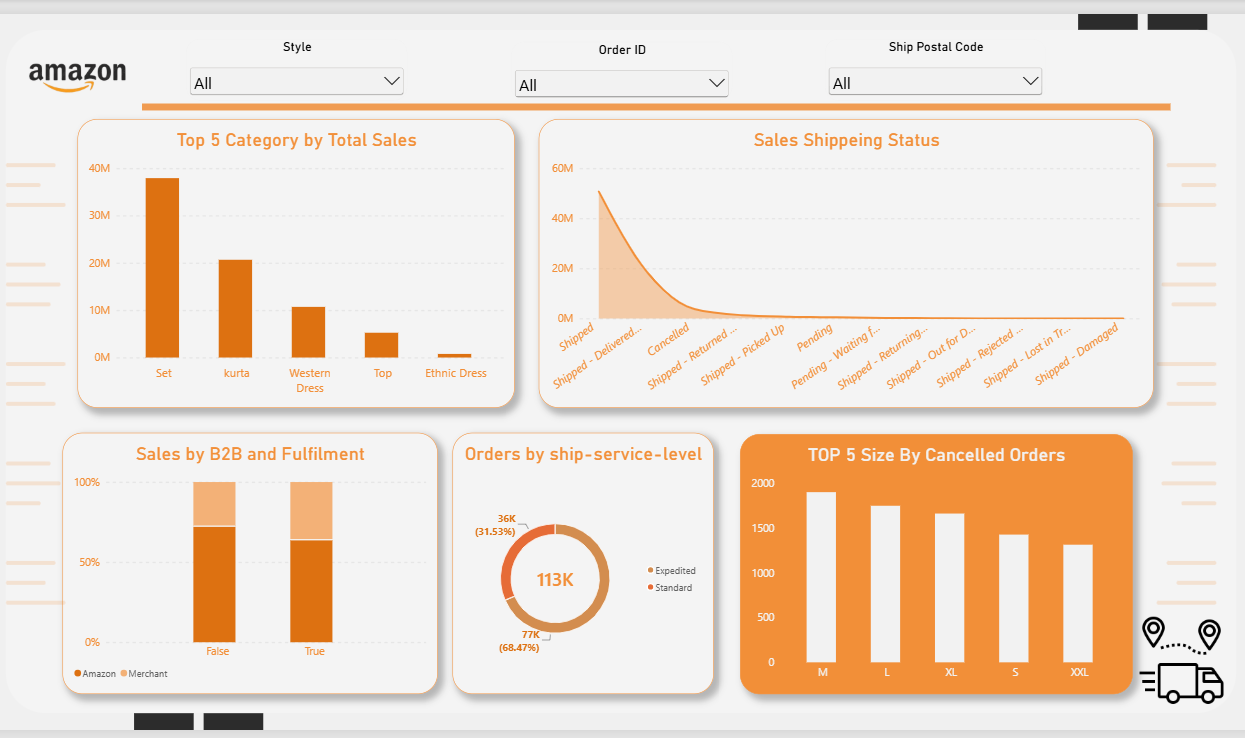

This screenshot's page, from the dashboard's own definition file:
{"tool":"powerbi","page":{"name":"Page 2","canvas":[1920,1080],"ordinal":1},"visuals":[{"type":"image","box":[0,0,278.7,193.6],"z":0},{"type":"slicer","title":"Style","fields":{"Values":["Amazon_Sale_Report.Style"]},"box":[303.8,37.7,334,92.5],"z":1000},{"type":"slicer","title":"Ship Postal Code","fields":{"Values":["Amazon_Sale_Report.ship-postal-code"]},"box":[1267.9,37.7,334,92.5],"z":2000},{"type":"slicer","title":"Order ID","fields":{"Values":["Amazon_Sale_Report.Order ID"]},"box":[794.3,41.5,334,88.7],"z":3000},{"type":"image","box":[1706.5,908.4,200.9,135.7],"z":4000},{"type":"areaChart","title":" Sales Shippeing Status","fields":{"Category":["Amazon_Sale_Report.Status"],"Y":["Amazon_Sale_Report.Total Sales"]},"box":[835.8,158.5,928.3,435.8],"z":5000},{"type":"donutChart","title":"Orders by ship-service-level","fields":{"Category":["Amazon_Sale_Report.ship-service-level"],"Y":["Amazon_Sale_Report.Total Orders"]},"box":[705.7,632.1,394.3,394.3],"z":6000},{"type":"columnChart","title":"Top 5 Category by Total Sales ","fields":{"Category":["Amazon_Sale_Report.Category"],"Y":["Amazon_Sale_Report.Total Sales"]},"box":[139.6,158.5,660.4,435.8],"z":7000},{"type":"columnChart","title":"TOP 5 Size By Cancelled Orders","fields":{"Category":["Amazon_Sale_Report.Size"],"Y":["Amazon_Sale_Report.Total Cancelled"]},"box":[1139.6,634,592.5,392.5],"z":8000},{"type":"hundredPercentStackedColumnChart","title":"Sales by B2B and Fulfilment","fields":{"Category":["Amazon_Sale_Report.B2B"],"Series":["Amazon_Sale_Report.Fulfilment"],"Y":["Amazon_Sale_Report.Total Sales"]},"box":[117,632.1,566,394],"z":9000}]}

Visuals, with their boxes in screenshot pixels (x1, y1, x2, y2):
image: locate(0, 13, 169, 141)
"Style" slicer: locate(185, 38, 407, 99)
"Ship Postal Code" slicer: locate(824, 38, 1046, 99)
"Order ID" slicer: locate(510, 40, 732, 99)
image: locate(1115, 615, 1244, 705)
" Sales Shippeing Status" areaChart: locate(538, 118, 1153, 407)
"Orders by ship-service-level" donutChart: locate(452, 432, 713, 693)
"Top 5 Category by Total Sales " columnChart: locate(76, 118, 514, 407)
"TOP 5 Size By Cancelled Orders" columnChart: locate(739, 433, 1132, 694)
"Sales by B2B and Fulfilment" hundredPercentStackedColumnChart: locate(61, 432, 437, 693)
